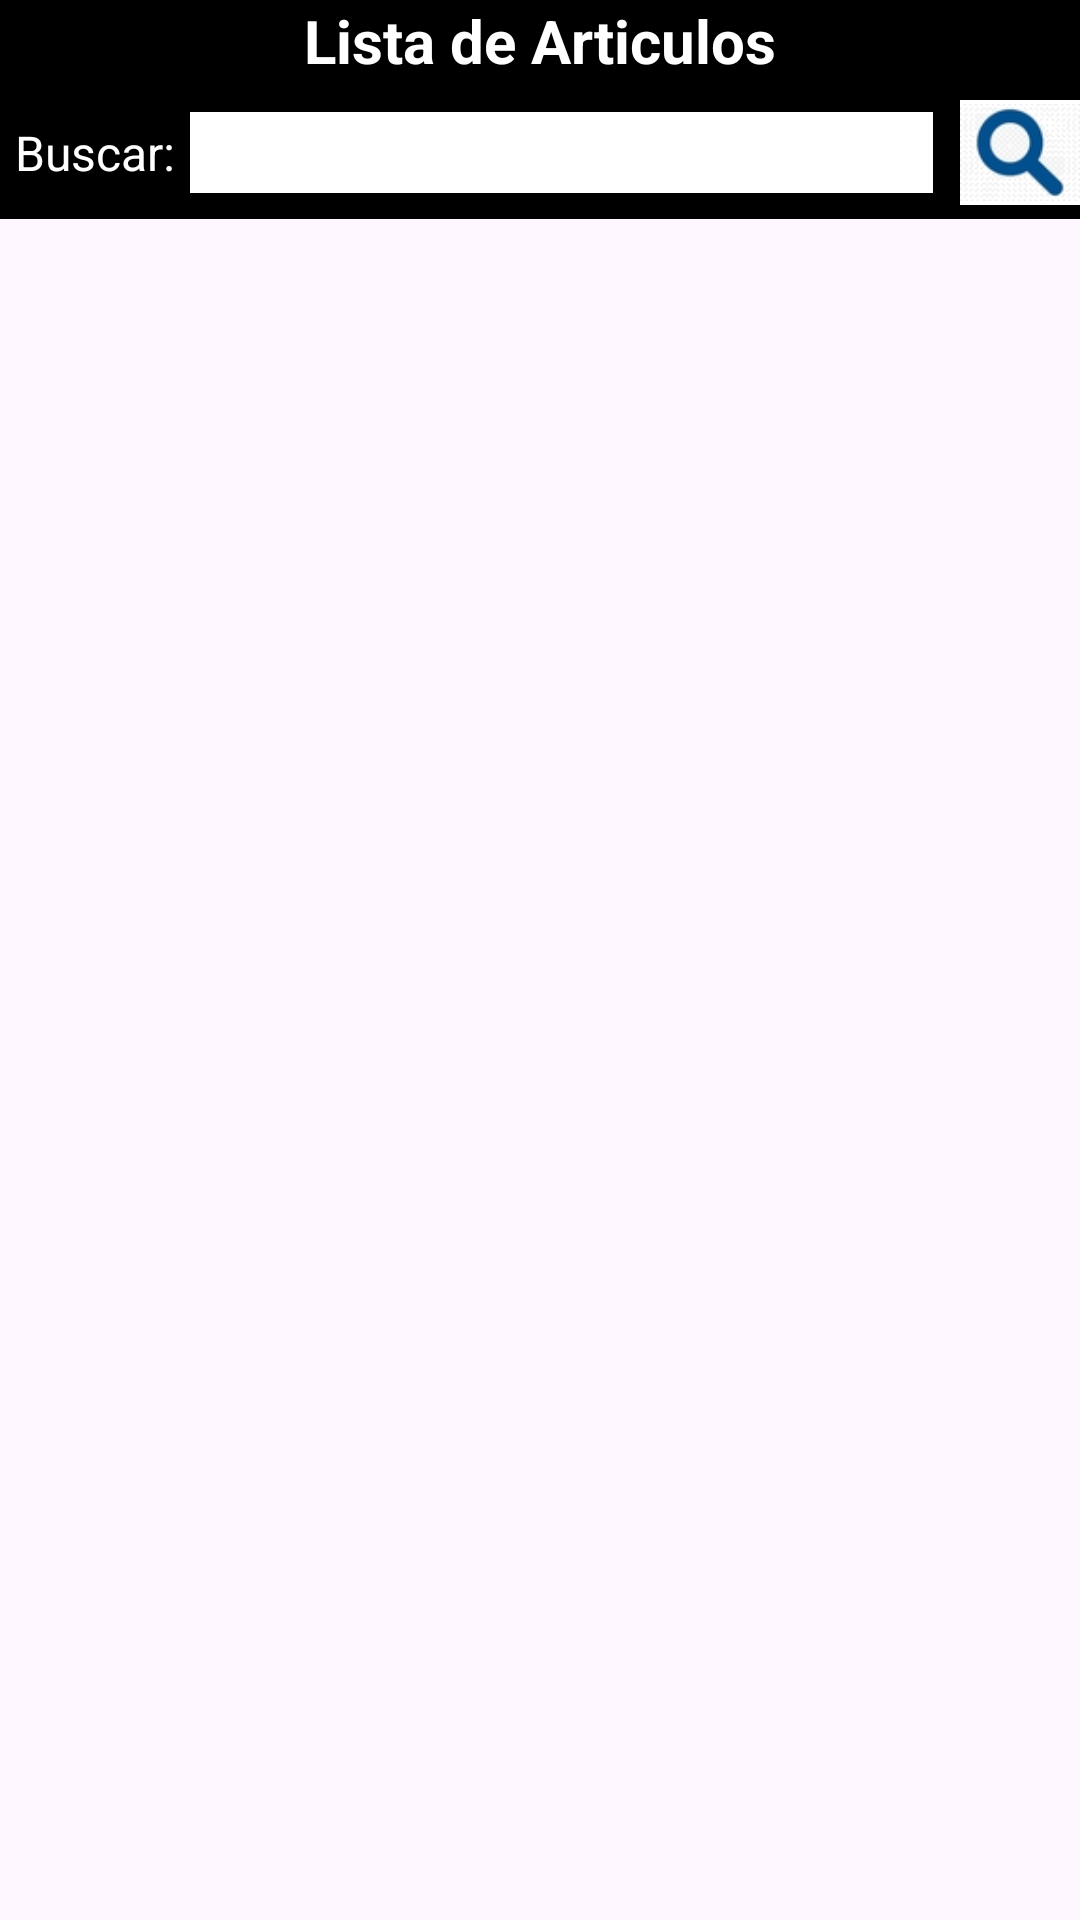

Screen size 1080×1920. Icon name, then its center in pixels as point (x, y):
buscar: point (1020, 152)
